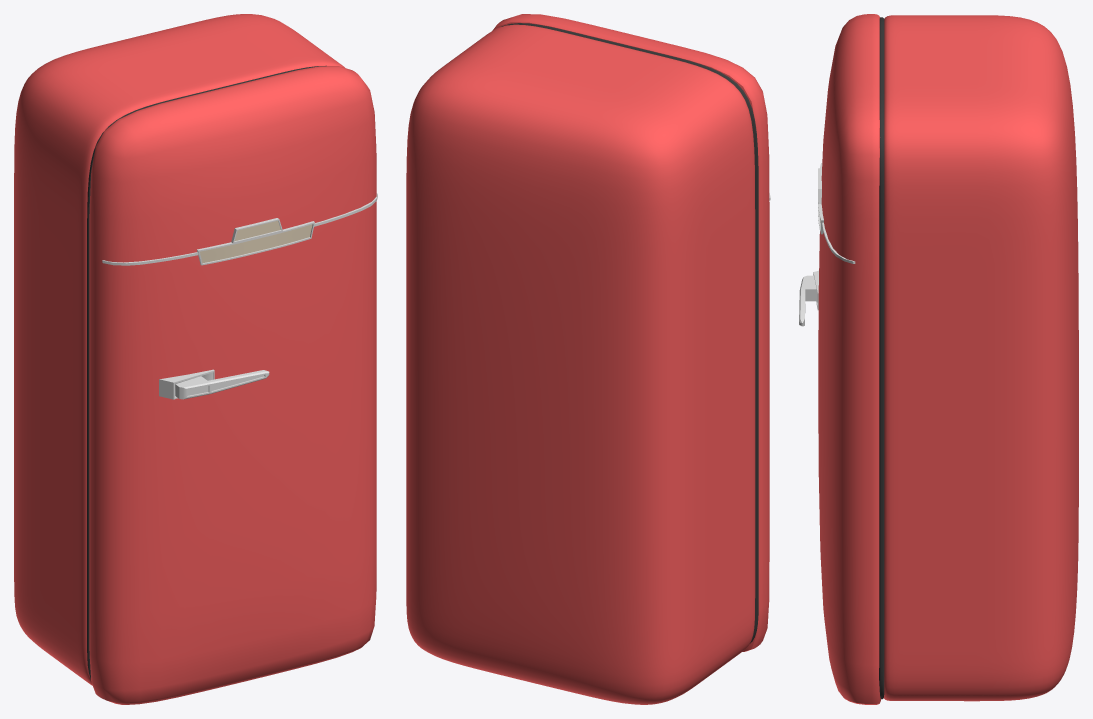
Rendered from Holodilnik11.fbx.
The picture shows the model from 3 angles, left to right: view 1: azimuth 30°, elevation 25°; view 2: azimuth 150°, elevation 25°; view 3: azimuth 270°, elevation 25°; orthographic projection.
Visible parts, largest first — view 1: Cube.004; view 2: Cube.004; view 3: Cube.004.
Boxes of the visible parts, x1,y1,x2,y2 form: Cube.004: (14, 14, 377, 704); Cube.004: (406, 14, 770, 704); Cube.004: (799, 14, 1078, 704).
Size of the model in its own units: 276 by 551 by 238.
